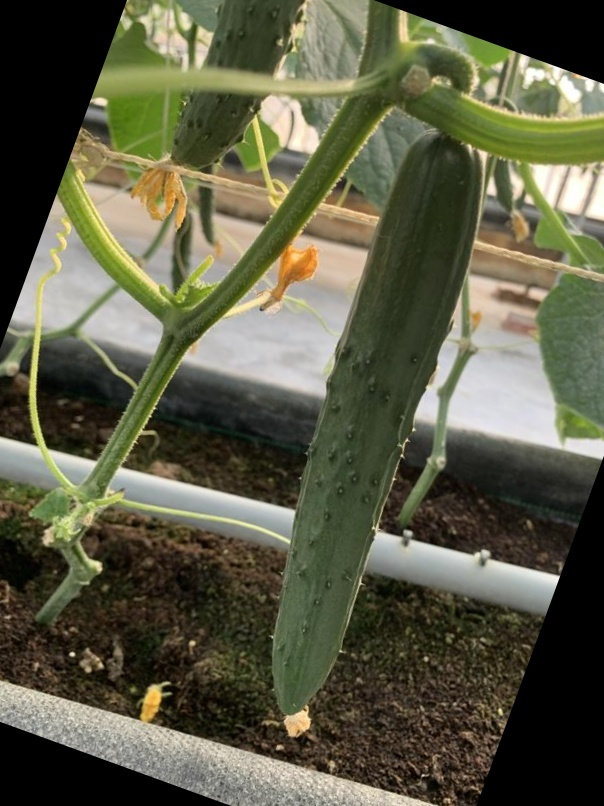mature: (257, 232, 484, 721)
